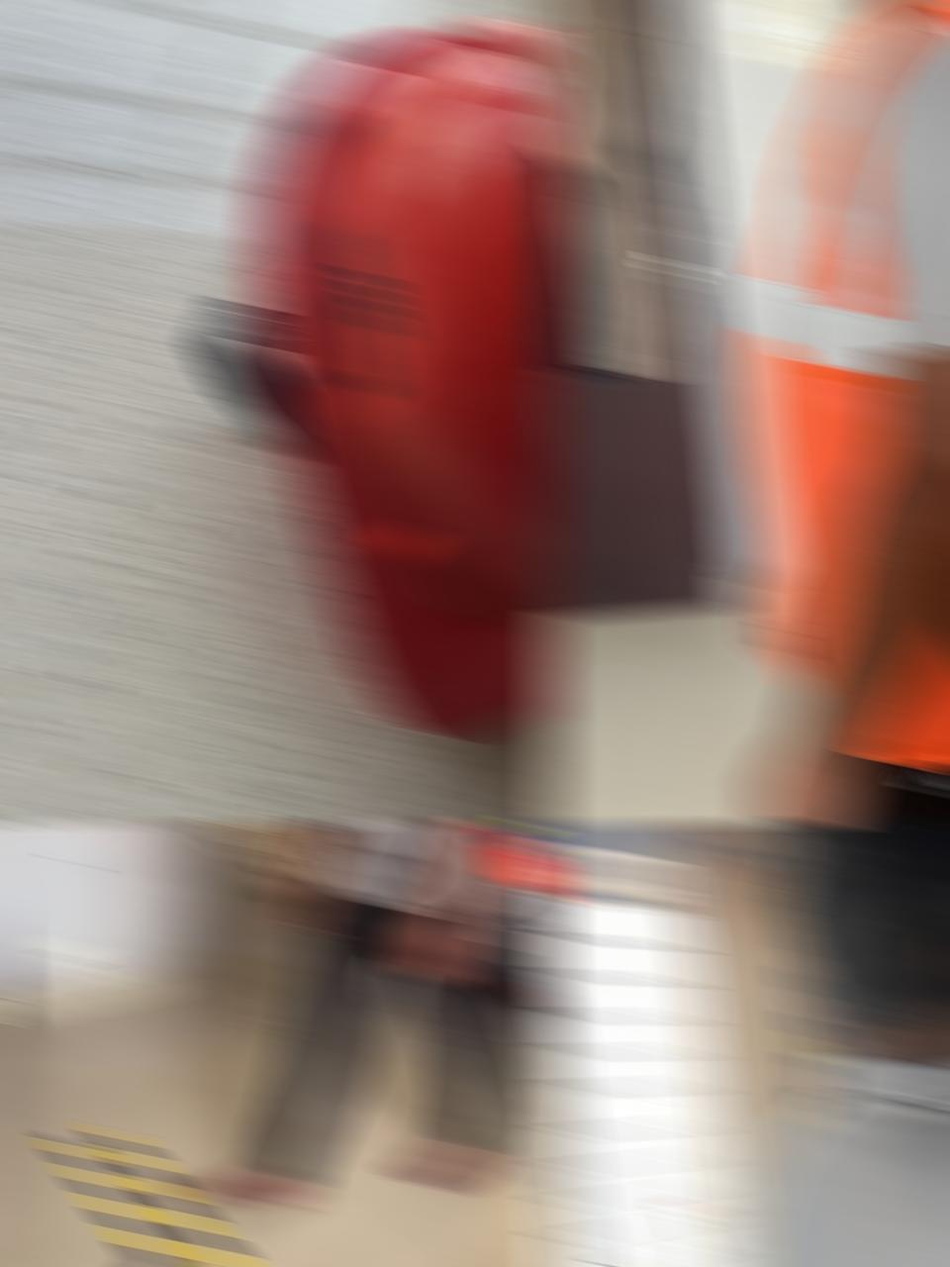BorderLine: (48, 1125, 373, 1267)
Helmet: (197, 0, 562, 738)
No_Helmet: (771, 822, 950, 1083)
No_Vest: (743, 1056, 950, 1267), (311, 822, 540, 917)
Person: (742, 0, 950, 826), (194, 822, 540, 1209), (743, 822, 950, 1267)
Vest: (742, 0, 950, 770)
